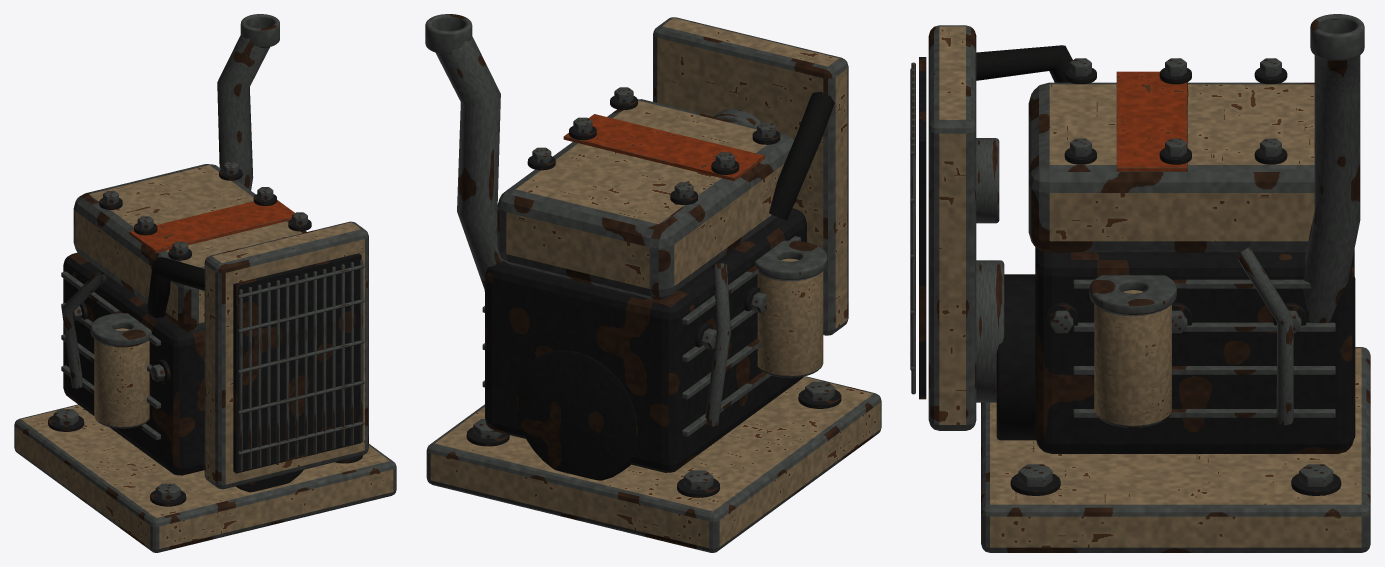
The model's file is 23_compact_engine.glb.
3 views of the same model, side by side, from view 1: azimuth 30°, elevation 25°; view 2: azimuth 150°, elevation 25°; view 3: azimuth 270°, elevation 25° (orthographic). The views are drawn at different scales.
Visible parts, largest first — view 1: Fixed_Body_Geometry; view 2: Fixed_Body_Geometry; view 3: Fixed_Body_Geometry, Moving_EnginePulley_Geometry.
Part boxes in pixels (<box>): Fixed_Body_Geometry: <box>14,14,396,552</box>; Fixed_Body_Geometry: <box>425,14,881,552</box>; Fixed_Body_Geometry: <box>910,14,1370,552</box>; Moving_EnginePulley_Geometry: <box>976,260,1004,402</box>.
Bounding box in the file's own units: 0.858 × 1.22 × 0.9692.
Materials: 6 (5 with a texture image).
